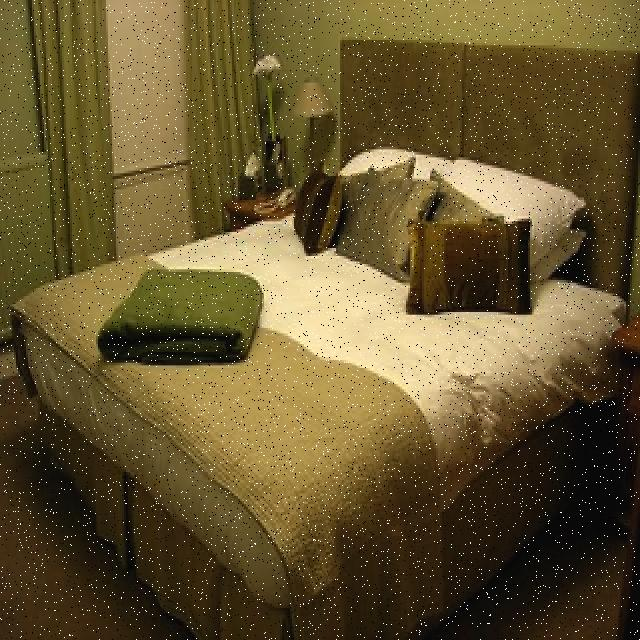bed: (7, 143, 626, 640)
